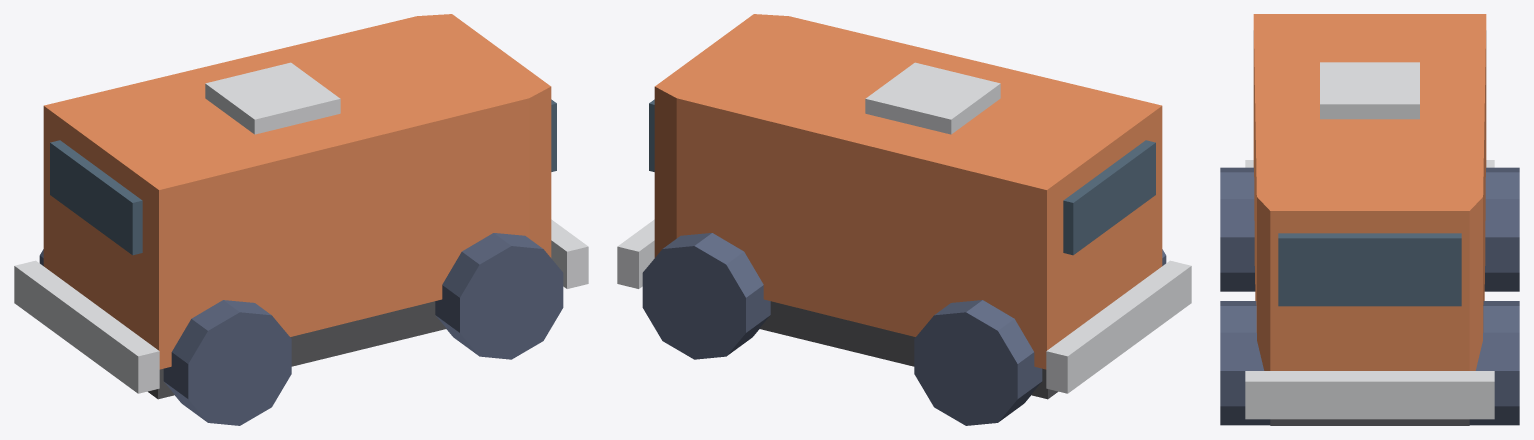
The model's file is car_van.glb.
The picture shows the model from 3 angles, left to right: view 1: azimuth 30°, elevation 25°; view 2: azimuth 150°, elevation 25°; view 3: azimuth 270°, elevation 25°; orthographic projection.
Size of the model in its own units: 0.315 by 0.17 by 0.18.
